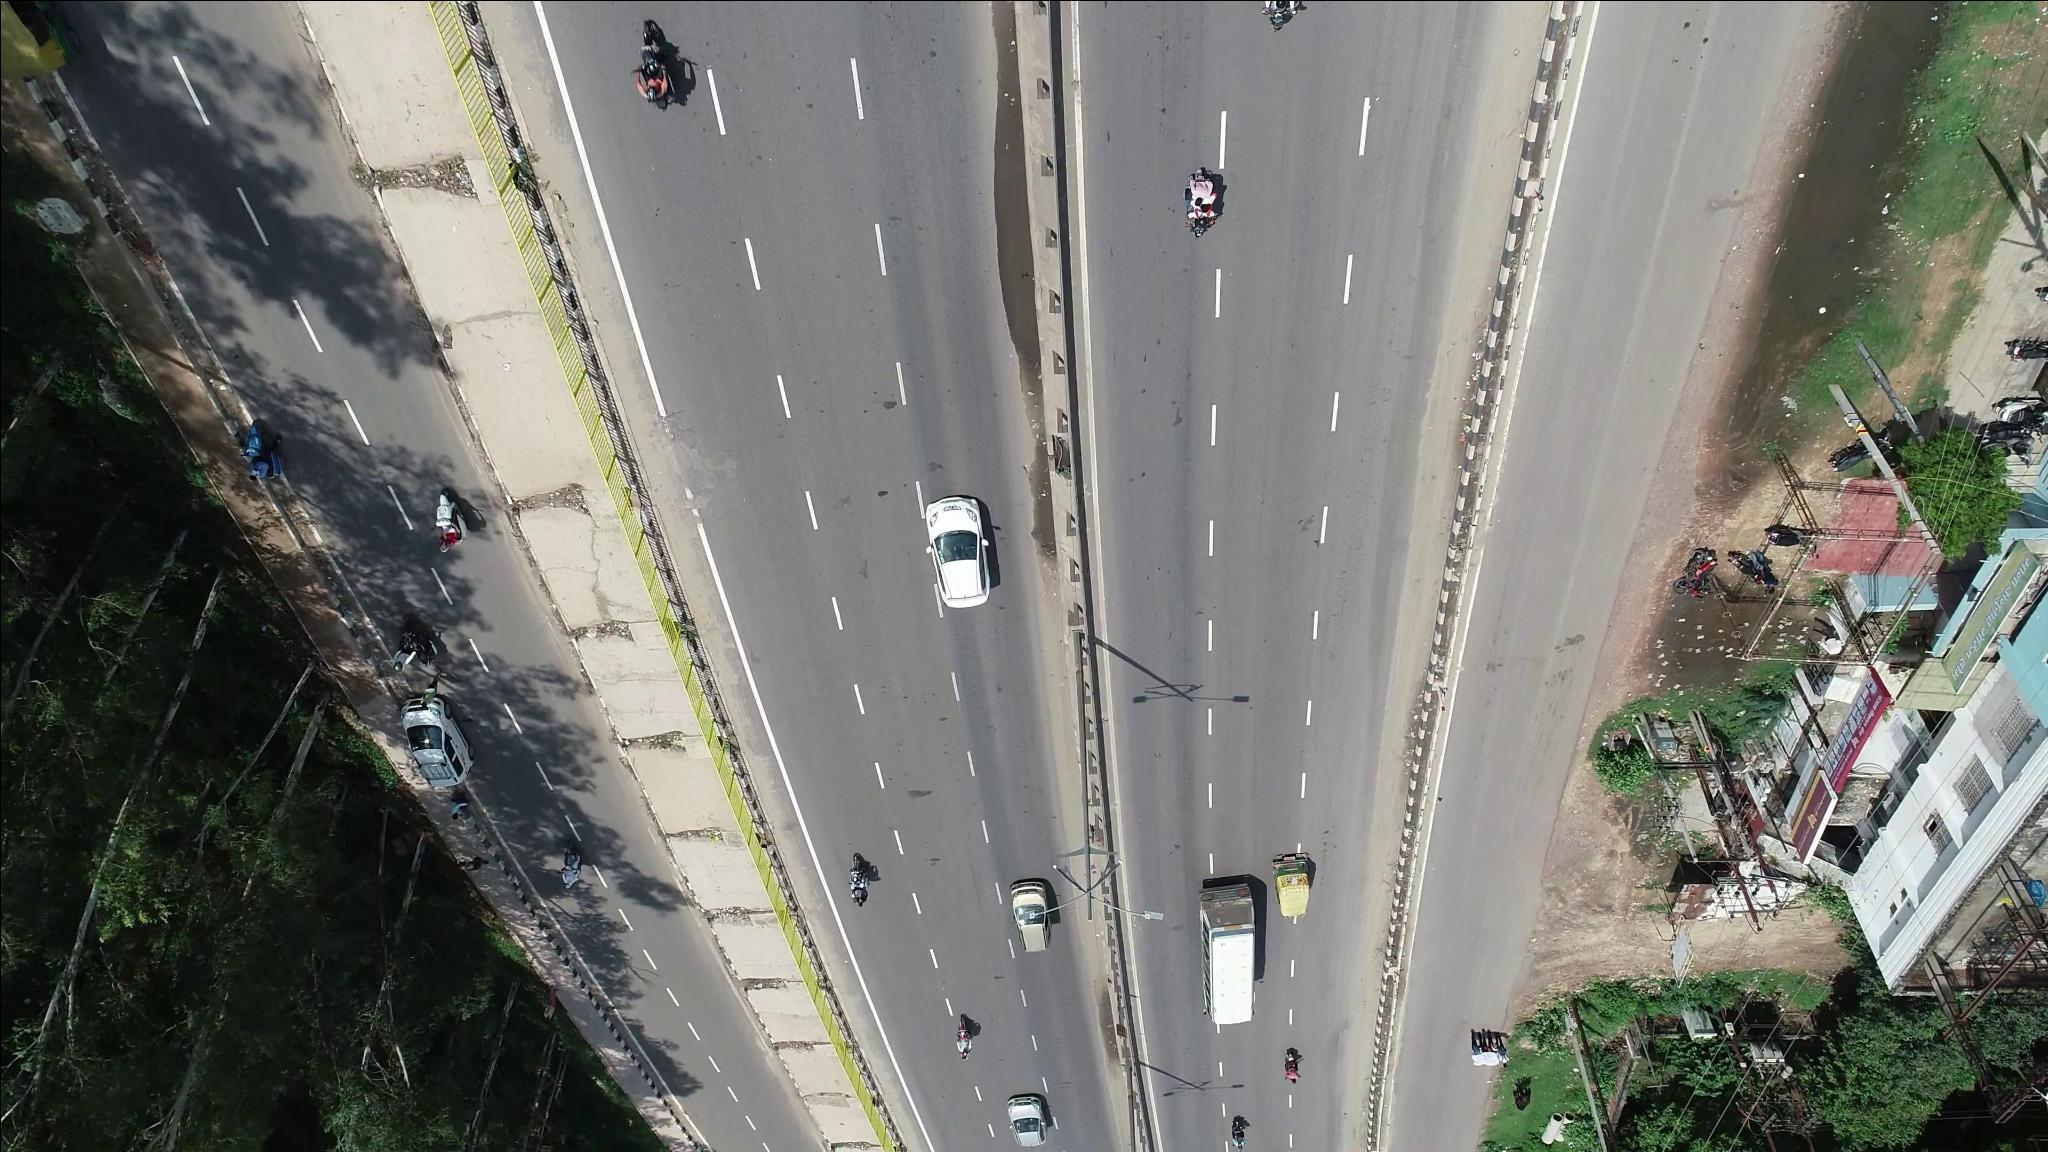Waterlogging: (956, 115, 1037, 354)
